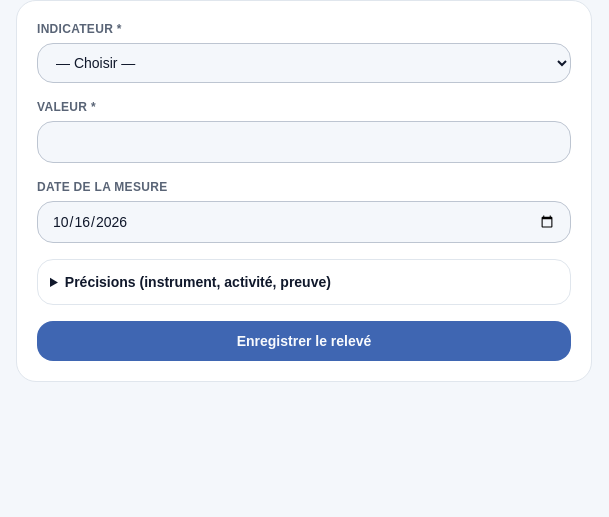
Test: saisie rapide › met le relevé en file quand le réseau est indisponible
This screenshot has width=609, height=517.
Select "Consommation d'eau (m³)" in the dropdown labelled "Indicateur *" at (304, 63), box [37, 43, 571, 83]
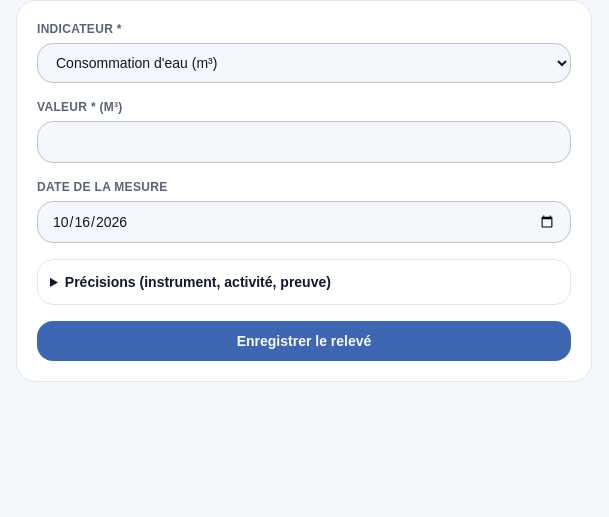
Type "42,5" into the field labelled "Valeur * (m³)" at (304, 142), box [37, 121, 571, 163]
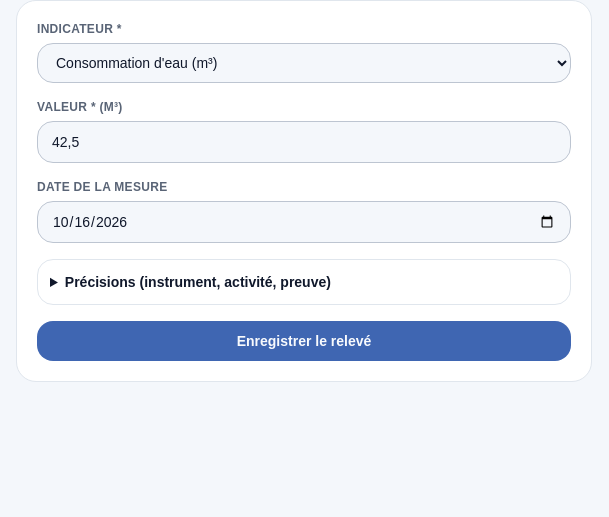
Click the button "Enregistrer le relevé" at (304, 341), box [37, 321, 571, 361]
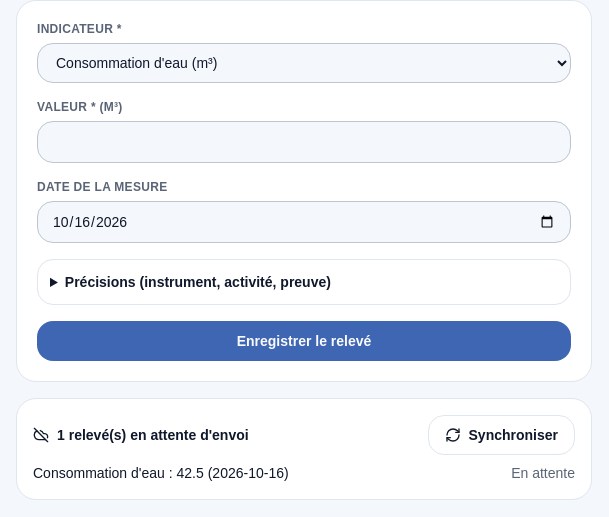
expect the text "1 relevé(s) en attente d'envoi" is shown: met, box [33, 425, 249, 445]
